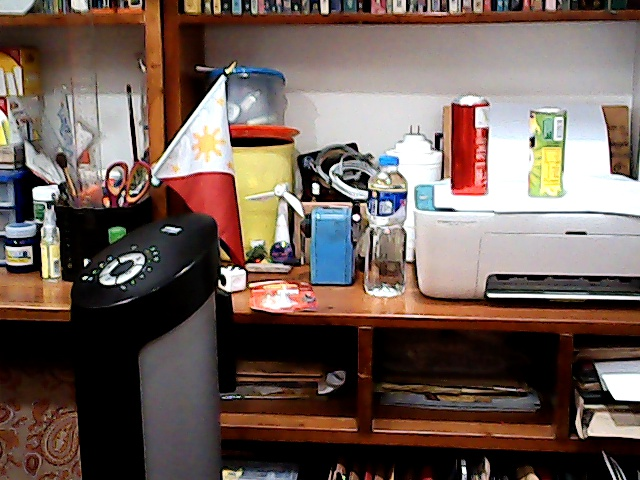Cola: (443, 92, 497, 199)
Pine Juice: (521, 102, 571, 204)
Summit Water: (358, 151, 418, 301)
